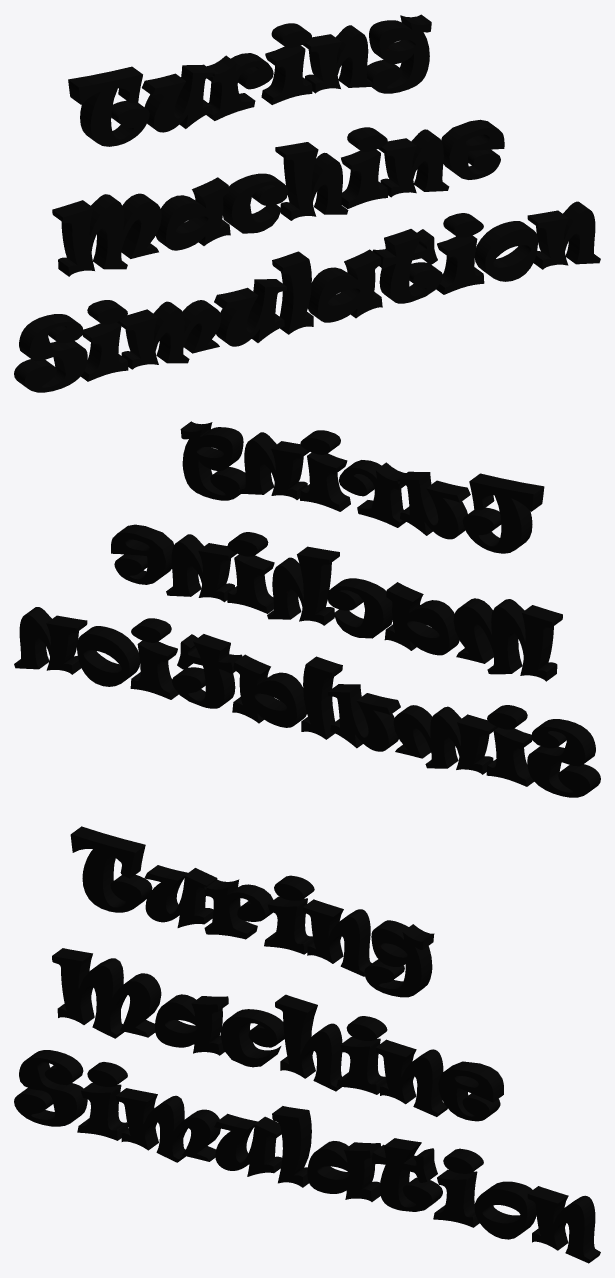
File: one.fbx
3 views of the same model, one above another, from view 1: azimuth 30°, elevation 25°; view 2: azimuth 150°, elevation 25°; view 3: azimuth 330°, elevation 25° (orthographic).
Parts seen in each view (by area): view 1: node_id79, node_id69, node_id62; view 2: node_id79, node_id69, node_id62; view 3: node_id79, node_id69, node_id62.
Boxes of the visible parts, bbox=[...] form: node_id79: bbox=[14, 201, 600, 392]; node_id69: bbox=[52, 119, 504, 276]; node_id62: bbox=[68, 14, 431, 146]; node_id79: bbox=[14, 607, 600, 797]; node_id69: bbox=[111, 524, 562, 681]; node_id62: bbox=[180, 421, 544, 553]; node_id79: bbox=[14, 1050, 600, 1263]; node_id69: bbox=[52, 948, 503, 1121]; node_id62: bbox=[70, 826, 434, 997].
Size of the model in its own units: 1.17 by 0.5892 by 0.0426.
Materials: 3 (3 with a texture image).
